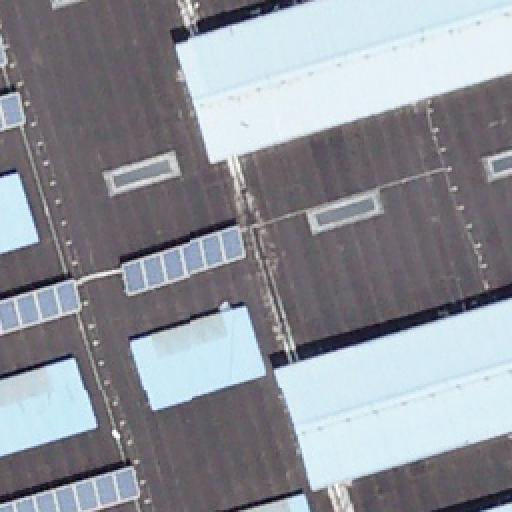solar-panel: (119, 224, 249, 296), (0, 464, 144, 512), (0, 273, 88, 335), (0, 92, 28, 132), (0, 31, 12, 65)
